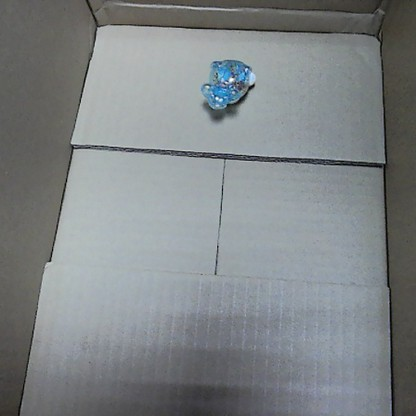bluefish: (200, 55, 256, 113)
